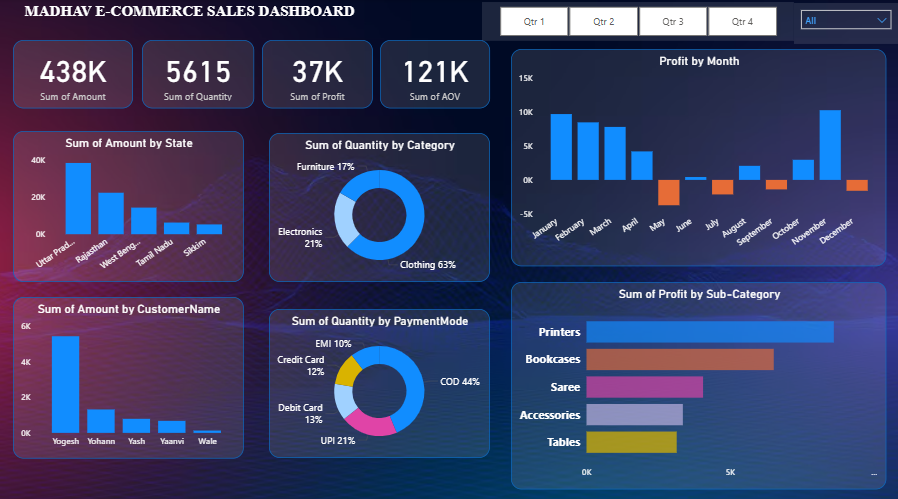

What the dashboard file says about the page in this screenshot:
{"tool":"powerbi","page":{"name":"Page 1","canvas":[1280,720],"ordinal":0},"visuals":[{"type":"textbox","box":[36.9,0,498.5,35.4],"z":0},{"type":"columnChart","title":"Profit by Month","fields":{"Y":["Details.Profit"],"Category":["Orders.Order Date.Variation.Date Hierarchy.Month"]},"box":[730.8,70.8,532.3,307.7],"z":1000},{"type":"barChart","fields":{"Category":["Details.Sub-Category"],"Y":["Details.Profit"]},"box":[730.8,401.5,532.3,293.8],"z":2000},{"type":"donutChart","fields":{"Category":["Details.Category"],"Y":["Details.Quantity"]},"box":[388.6,190,312.9,211.4],"z":3000},{"type":"donutChart","fields":{"Category":["Details.PaymentMode"],"Y":["Details.Quantity"]},"box":[388.6,440,312.9,211.4],"z":4000},{"type":"card","fields":{"Values":["Details.Amount"]},"box":[25.7,58.6,170,97.1],"z":5000},{"type":"card","fields":{"Values":["Details.Quantity"]},"box":[208.6,58.6,158.6,97.1],"z":6000},{"type":"card","fields":{"Values":["Details.Profit"]},"box":[378.6,58.6,157.1,97.1],"z":7000},{"type":"card","fields":{"Values":["Details.AOV"]},"box":[545.7,58.6,155.7,97.1],"z":8000},{"type":"columnChart","fields":{"Y":["Details.Amount"],"Category":["Orders.State"]},"box":[25.7,187.1,327.1,214.3],"z":9000},{"type":"columnChart","fields":{"Y":["Details.Amount"],"Category":["Orders.CustomerName"]},"box":[25.7,422.9,327.1,228.6],"z":10000},{"type":"slicer","fields":{"Values":["Orders.Order Date.Variation.Date Hierarchy.Quarter"]},"box":[690.8,4.6,441.5,55.4],"z":10001},{"type":"slicer","fields":{"Values":["Orders.State"]},"box":[1132.3,6.2,147.7,58.5],"z":10002}]}

Visuals, with their boxes in screenshot pixels (x1, y1, x2, y2), scaled from the page's 1280x720 canvas onto the 898x499 screenshot:
textbox: pyautogui.locateOnScreen(26, 0, 376, 25)
"Profit by Month" columnChart: pyautogui.locateOnScreen(513, 49, 886, 262)
barChart - Details.Sub-Category x Details.Profit: pyautogui.locateOnScreen(513, 278, 886, 482)
donutChart - Details.Category x Details.Quantity: pyautogui.locateOnScreen(273, 132, 492, 278)
donutChart - Details.PaymentMode x Details.Quantity: pyautogui.locateOnScreen(273, 305, 492, 451)
card - Details.Amount: pyautogui.locateOnScreen(18, 41, 137, 108)
card - Details.Quantity: pyautogui.locateOnScreen(146, 41, 258, 108)
card - Details.Profit: pyautogui.locateOnScreen(266, 41, 376, 108)
card - Details.AOV: pyautogui.locateOnScreen(383, 41, 492, 108)
columnChart - Details.Amount x Orders.State: pyautogui.locateOnScreen(18, 130, 248, 278)
columnChart - Details.Amount x Orders.CustomerName: pyautogui.locateOnScreen(18, 293, 248, 452)
slicer - Orders.Order Date.Variation.Date Hierarchy.Quarter: pyautogui.locateOnScreen(485, 3, 794, 42)
slicer - Orders.State: pyautogui.locateOnScreen(794, 4, 897, 45)
